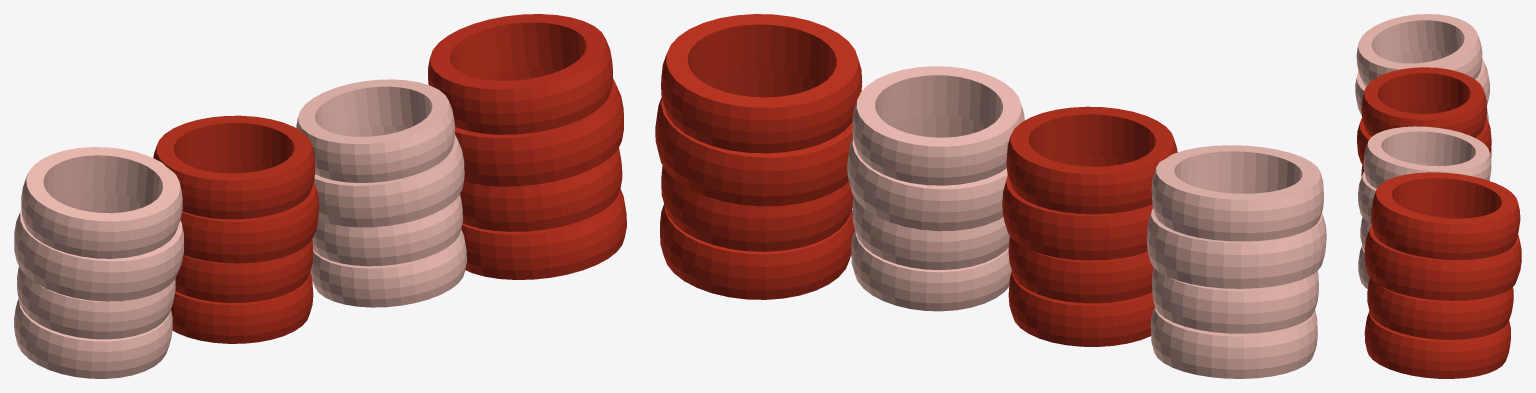
Rendered from Tyre_Fence.fbx.
The picture shows the model from 3 angles, left to right: view 1: azimuth 30°, elevation 25°; view 2: azimuth 150°, elevation 25°; view 3: azimuth 270°, elevation 25°; orthographic projection. The views are drawn at different scales.
Visible parts, largest first — view 1: Plane; view 2: Plane; view 3: Plane.
Boxes of the visible parts, bbox=[...] form: Plane: bbox=[14, 14, 626, 378]; Plane: bbox=[655, 14, 1326, 378]; Plane: bbox=[1355, 14, 1521, 378].
Size of the model in its own units: 7.02 by 2.29 by 2.14.
